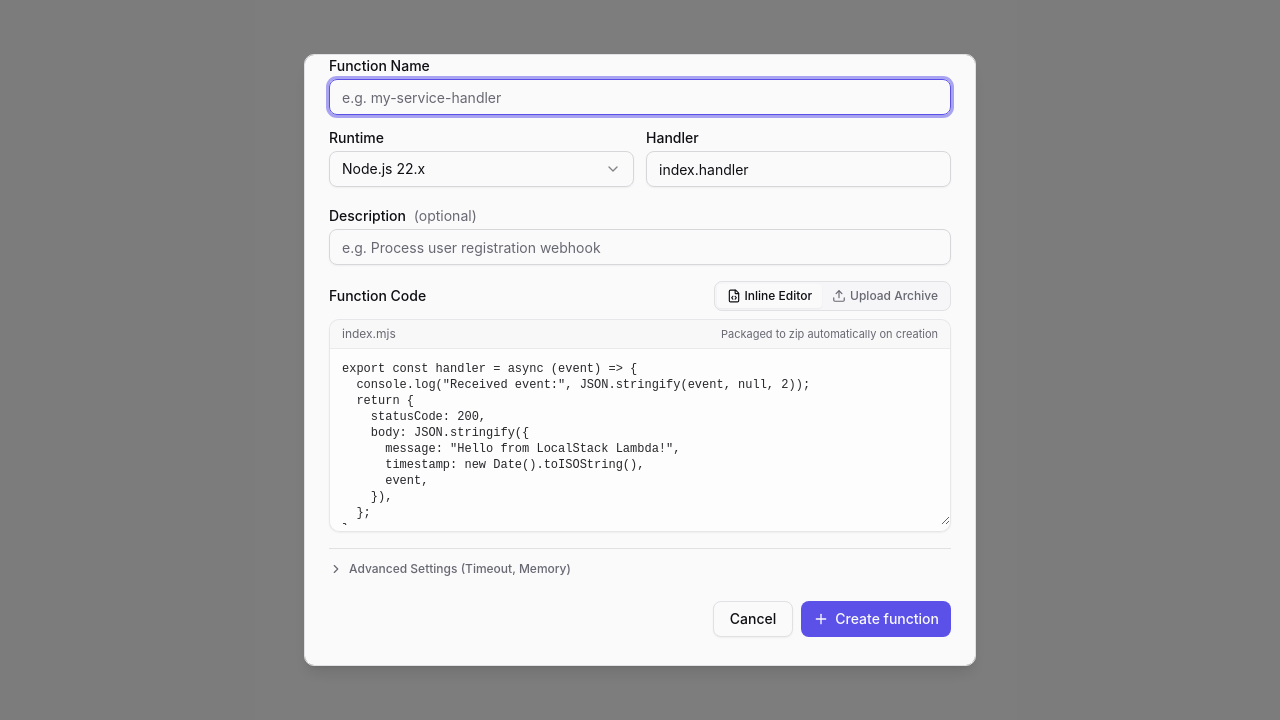
it: CreateFunctionDialog › validates function name on submit
(page scrolled)
Note: Empty name
Click the button "Create function".
click(876, 619)  # box [801, 601, 951, 637]
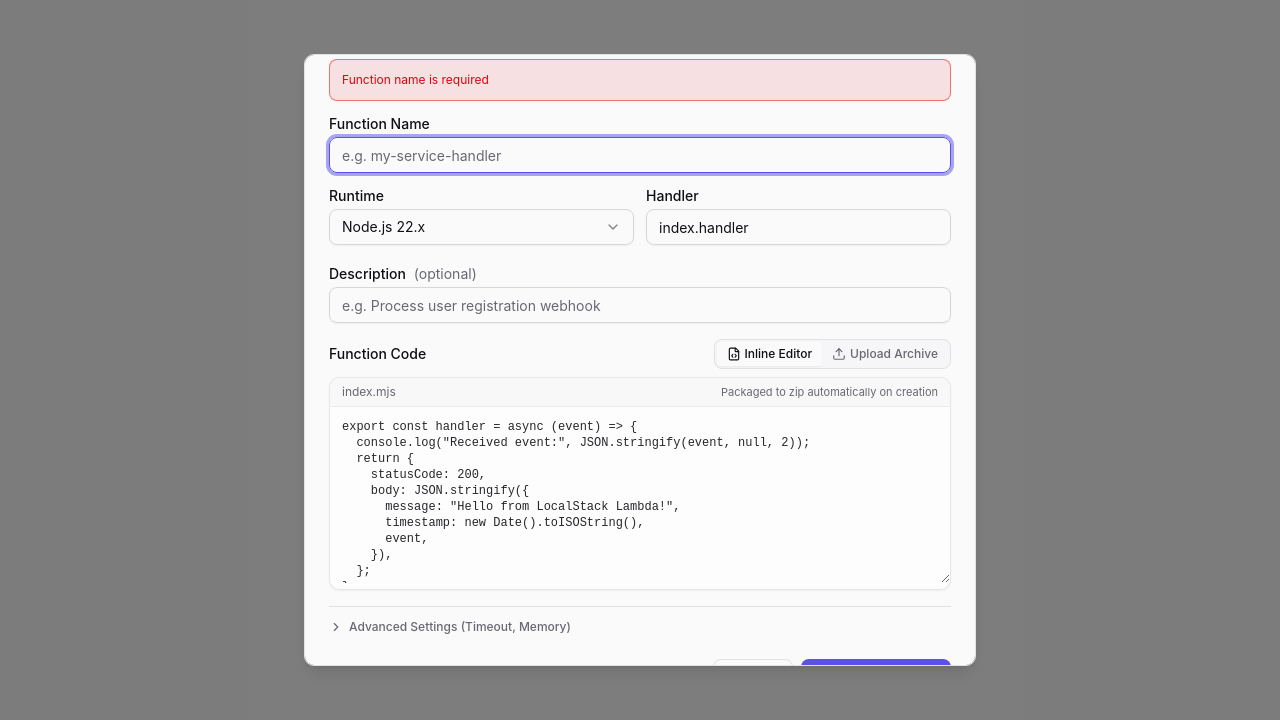
Now the text "Function name is required" is shown, box [329, 59, 951, 101]
Note: Invalid characters
Type "invalid name with spaces!" into the field labelled "Function Name".
click(640, 155); type("invalid name with spaces!")  # box [329, 137, 951, 173]
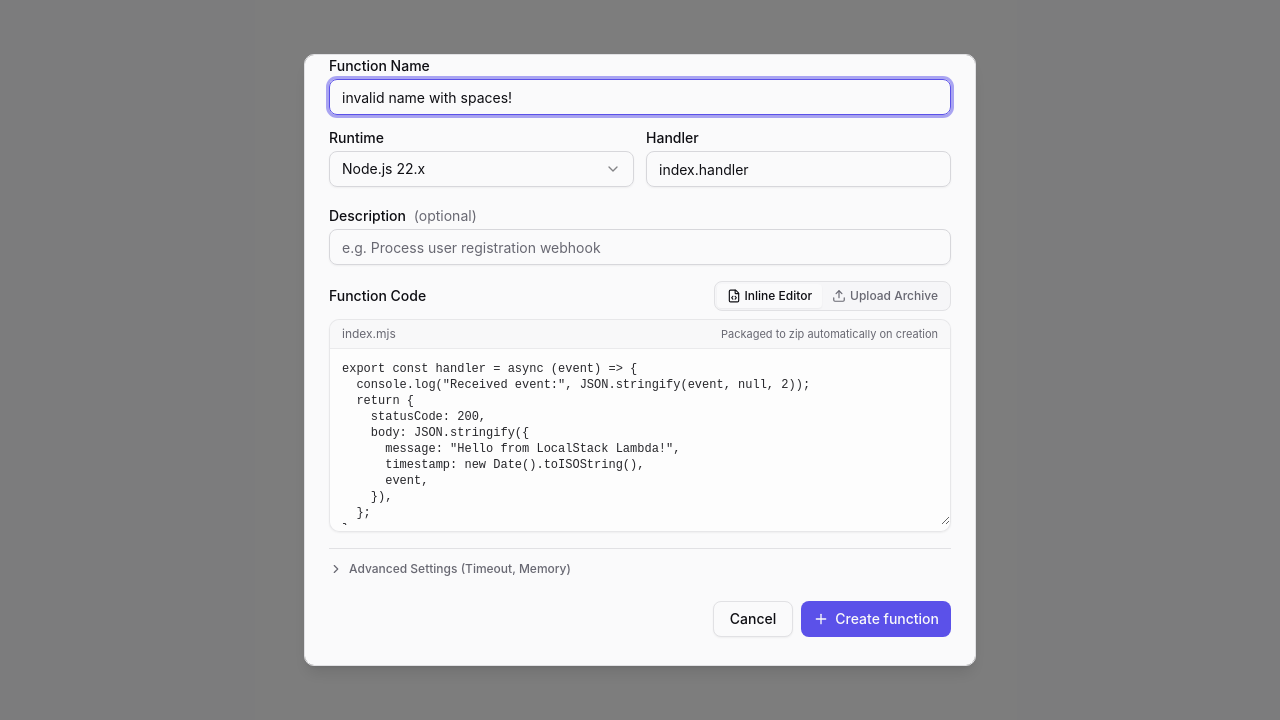
Click the button "Create function".
click(876, 619)  # box [801, 601, 951, 637]
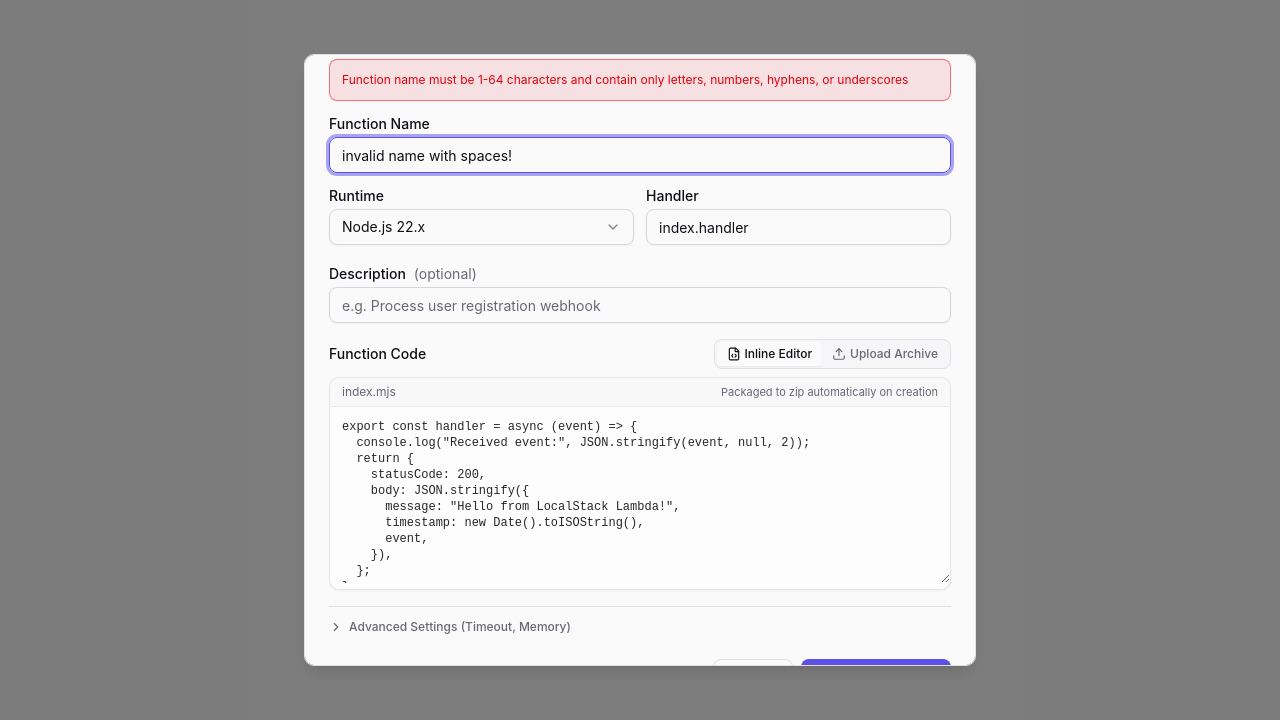
Now the text "Function name must be 1-64 characters" is shown, box [342, 72, 908, 87]
